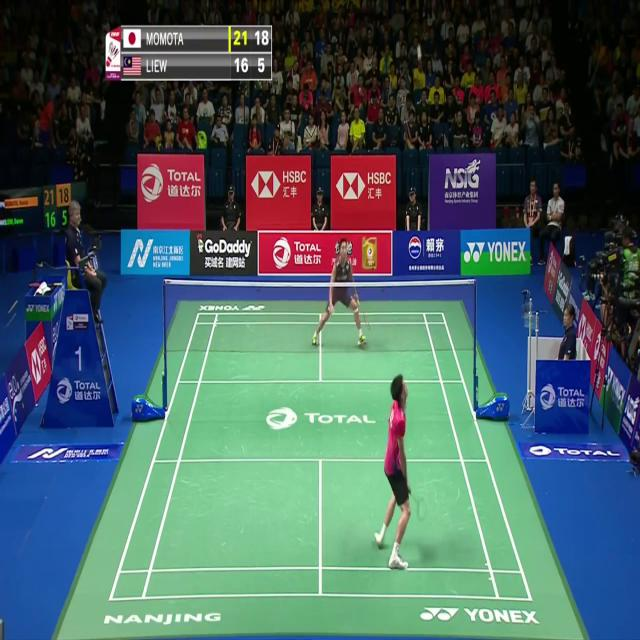Shuttlecock: (416, 46, 422, 57)
